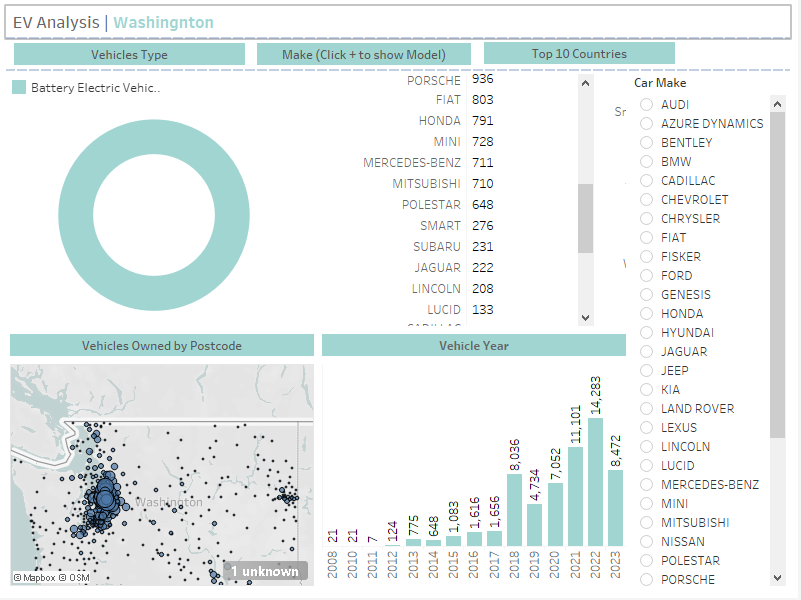

What the dashboard file says about the page in this screenshot:
{"tool":"tableau","page":{"name":"Dashboard 1","canvas":[1500,850],"ordinal":0},"visuals":[{"type":"text","box":[8,8,1484,45.5]},{"type":"text","box":[903.9,56.5,372.7,42.4]},{"type":"text","box":[23.4,57.9,448.1,42.4]},{"type":"text","box":[477.9,57.9,416.9,42.4]},{"type":"worksheet","title":"Vehicle Type Donut","mark":"Pie","rows":["Calculation_738027395813646338","Calculation_738027395813646338"],"box":[8,99.1,362,371.5]},{"type":"worksheet","title":"Make and Model","mark":"Automatic","rows":["Make"],"cols":["DOL Vehicle ID"],"box":[370,99.1,327,371.5]},{"type":"worksheet","title":"Top 10 Countires","mark":"Automatic","rows":["County"],"cols":["DOL Vehicle ID"],"box":[697,99.1,635,371.5]},{"type":"parameter","param":"[Parameters].[Parameter 1]","box":[1332,99.1,160,697]},{"type":"legend","title":"Vehicle Type Donut","param":"[federated.15ogdom132qpmk0zmv48u1tax5vq].[none:Electric Vehicle Type:nk]","box":[20.8,111.5,294.8,55.1]},{"type":"text","box":[8,470.5,662,42.9]},{"type":"text","box":[670,470.5,662,42.9]},{"type":"worksheet","title":"Map","mark":"Automatic","box":[8,513.4,662,328.6]},{"type":"worksheet","title":"Year and Type","mark":"Bar","rows":["DOL Vehicle ID"],"cols":["Model Year"],"box":[670,513.4,662,328.6]}]}

Visuals, with their boxes on the page's 1500x850 design canvas (x1, y1, x2, y2). These are canvas units, not pixel positions in the 801x600 screenshot, which may show the page scaled, cropped or inside an application window:
text: left=8, top=8, right=1492, bottom=54
text: left=904, top=56, right=1277, bottom=99
text: left=23, top=58, right=472, bottom=100
text: left=478, top=58, right=895, bottom=100
"Vehicle Type Donut" worksheet (Pie marks): left=8, top=99, right=370, bottom=471
"Make and Model" worksheet: left=370, top=99, right=697, bottom=471
"Top 10 Countires" worksheet: left=697, top=99, right=1332, bottom=471
parameter: left=1332, top=99, right=1492, bottom=796
"Vehicle Type Donut" legend: left=21, top=112, right=316, bottom=167
text: left=8, top=470, right=670, bottom=513
text: left=670, top=470, right=1332, bottom=513
"Map" worksheet: left=8, top=513, right=670, bottom=842
"Year and Type" worksheet (Bar marks): left=670, top=513, right=1332, bottom=842
